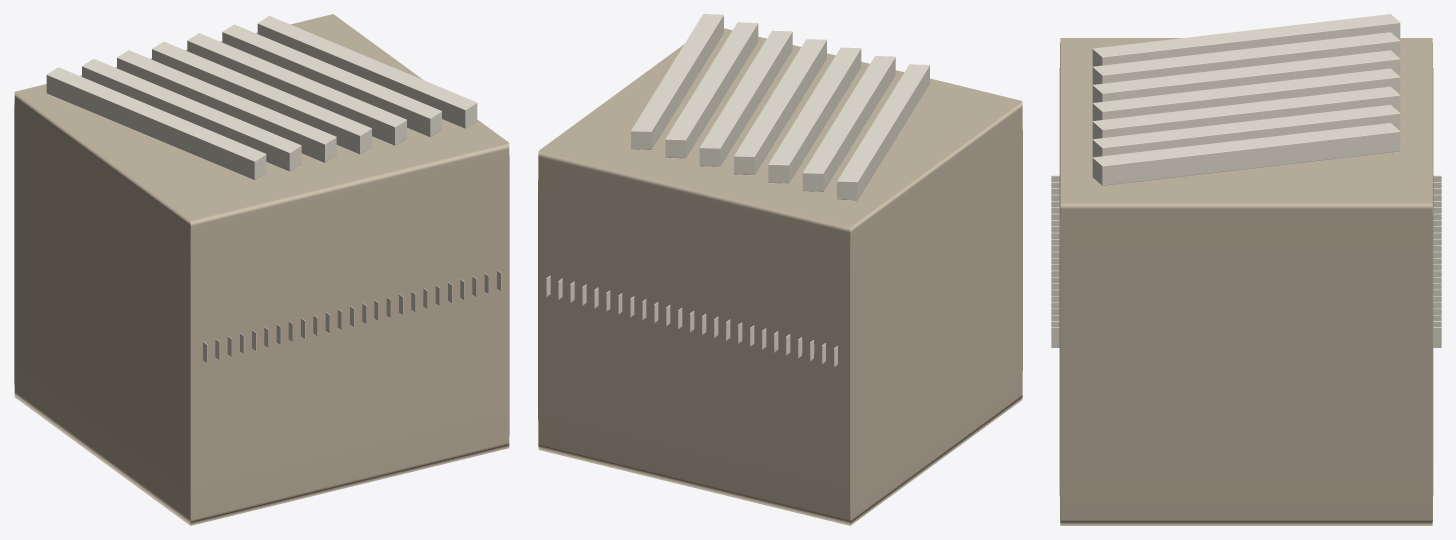
The model's file is rug-15-4.glb.
The picture shows the model from 3 angles, left to right: view 1: azimuth 30°, elevation 25°; view 2: azimuth 150°, elevation 25°; view 3: azimuth 270°, elevation 25°; orthographic projection. The views are drawn at different scales.
Parts seen in each view (by area): view 1: woven-rug, upholstery; view 2: woven-rug, upholstery; view 3: woven-rug, upholstery.
Boxes of the visible parts, x1,y1,x2,y2 form: woven-rug: (14,14,509,525); upholstery: (46,16,501,363); woven-rug: (538,28,1022,525); upholstery: (546,14,929,366); woven-rug: (1059,38,1433,525); upholstery: (1051,14,1441,347).
Size of the model in its own units: 1 by 1 by 1.
